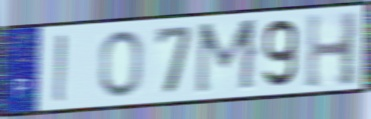7: (153, 25, 197, 97)
9: (262, 17, 299, 88)
H: (304, 10, 361, 91)
I: (52, 32, 68, 104)
M: (193, 16, 261, 97)
O: (98, 29, 145, 99)
